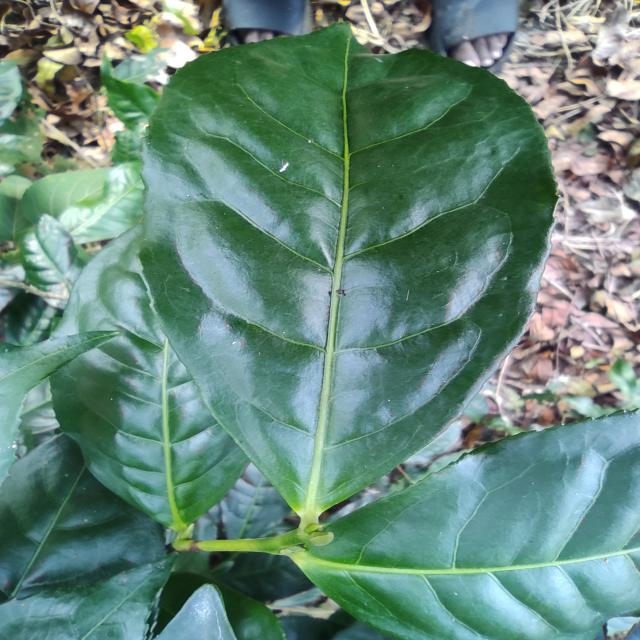Category D(7+ days, Not for Tea): (113, 14, 568, 556)
